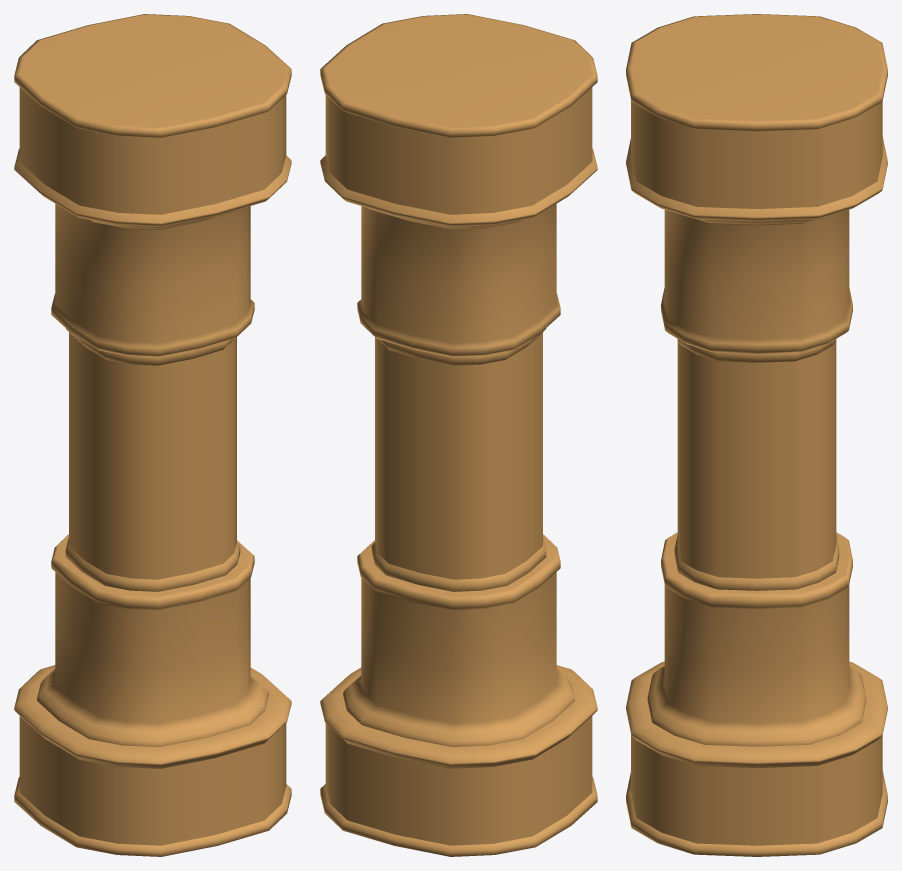
The model's file is temple_pillar.glb.
3 views of the same model, side by side, from view 1: azimuth 30°, elevation 25°; view 2: azimuth 150°, elevation 25°; view 3: azimuth 270°, elevation 25° (orthographic).
Parts seen in each view (by area): view 1: Pillar_Pref; view 2: Pillar_Pref; view 3: Pillar_Pref.
Boxes of the visible parts, x1,y1,x2,y2 form: Pillar_Pref: (14, 14, 291, 856); Pillar_Pref: (320, 14, 597, 856); Pillar_Pref: (626, 14, 887, 856).
Bounding box in the file's own units: 0.0292 × 0.0903 × 0.0292.
1 material, 1 textured.
